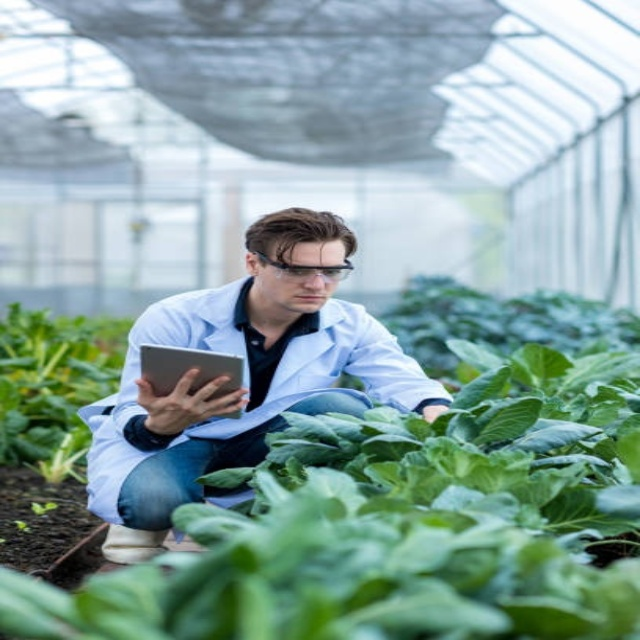Gafas: (255, 252, 354, 284)
Sin_guantes: (137, 367, 250, 433)
Sin_mascara: (278, 291, 333, 310)
